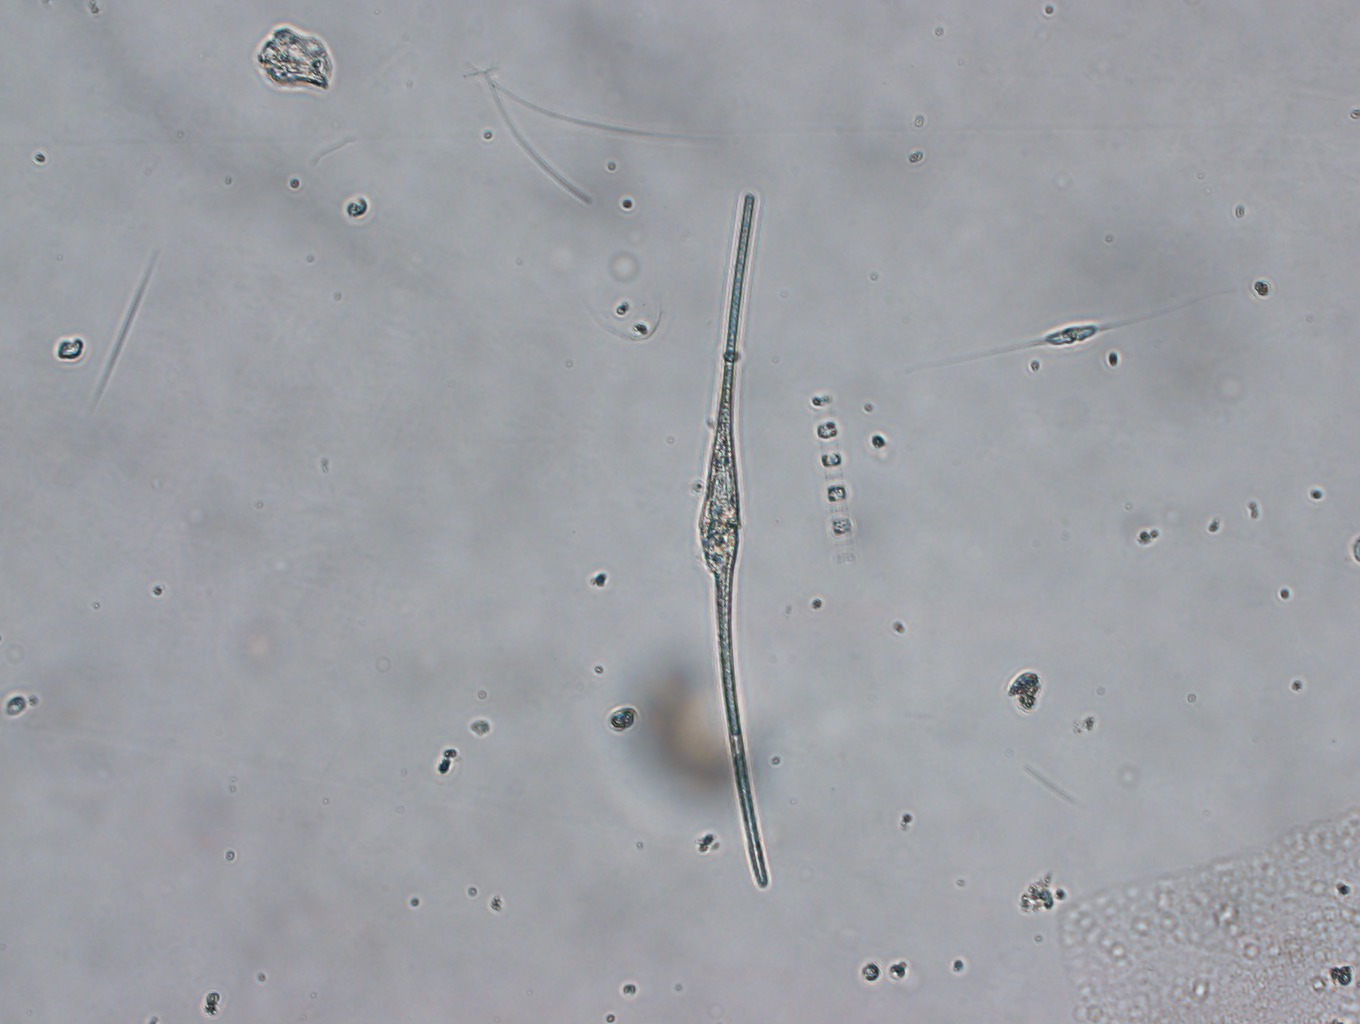ceratium fusus: (696, 193, 772, 888)
skeletonema: (807, 389, 857, 555)
